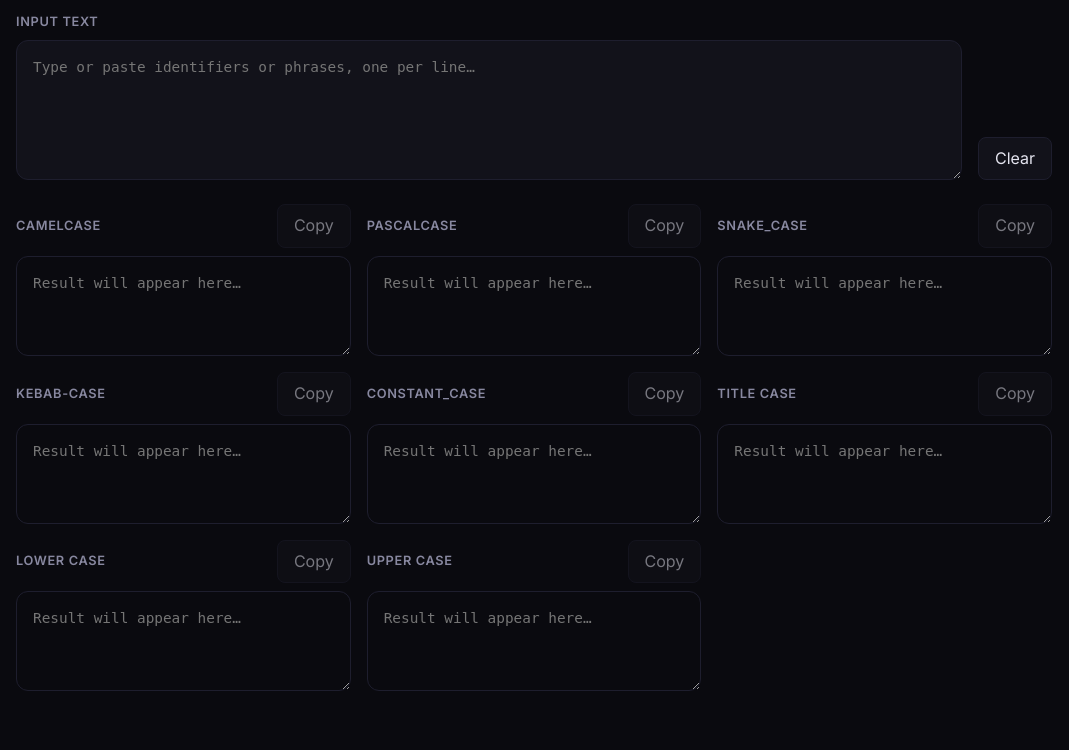
CaseConverterTool actions › clears the input and all results, reporting feedback
Type "hello world" into the text box labelled "Input text".
click(489, 110); type("hello world")  # box [16,40,962,180]
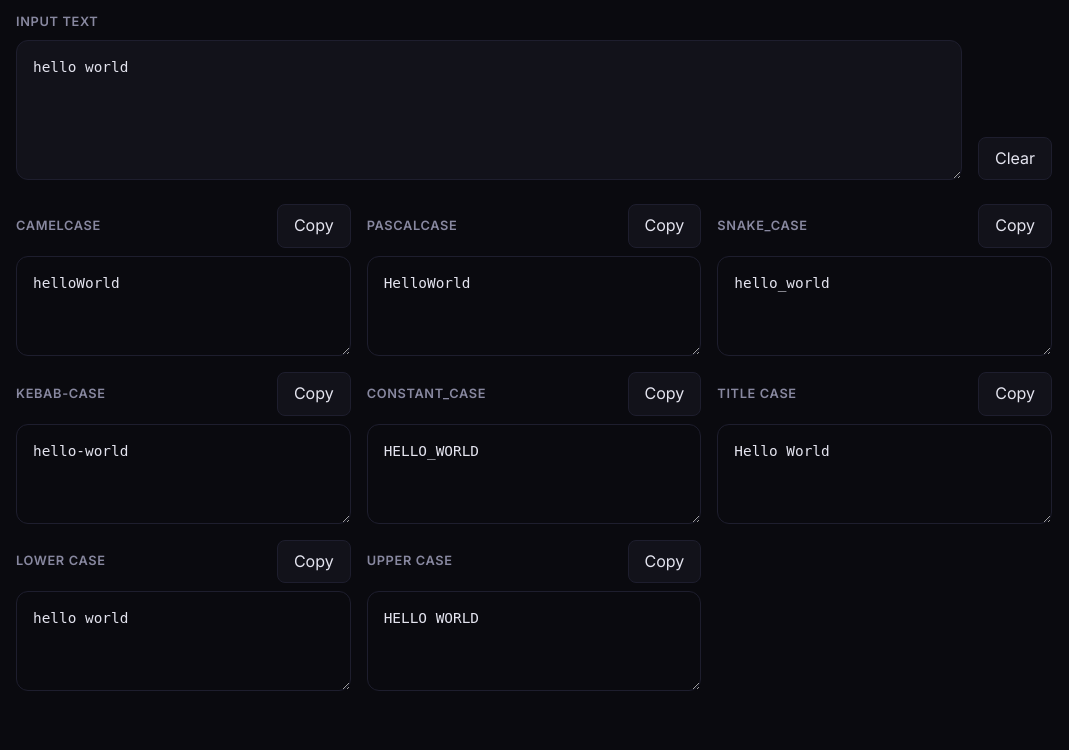
Click the button "Clear".
click(1015, 159)  # box [978,137,1052,180]
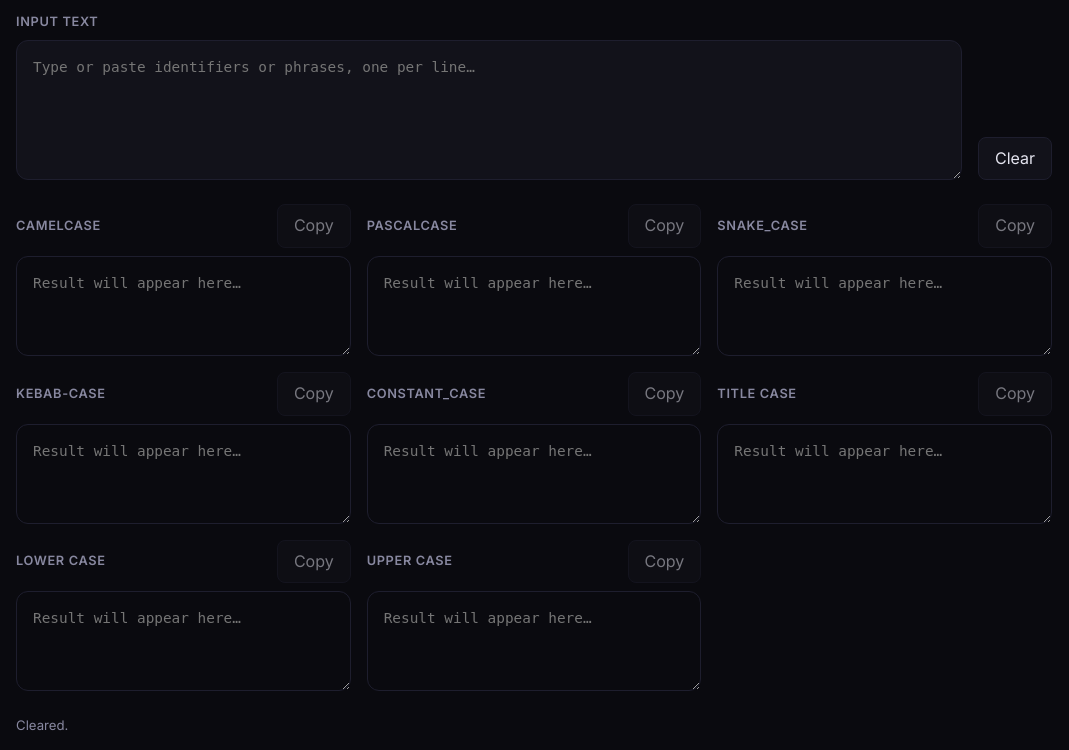
Expected: the text box labelled "Input text" is empty, [16,40,962,180]
Expected: the text box labelled "camelCase" is empty, [16,256,351,356]
Expected: the message reads "Cleared.", [16,717,68,733]
